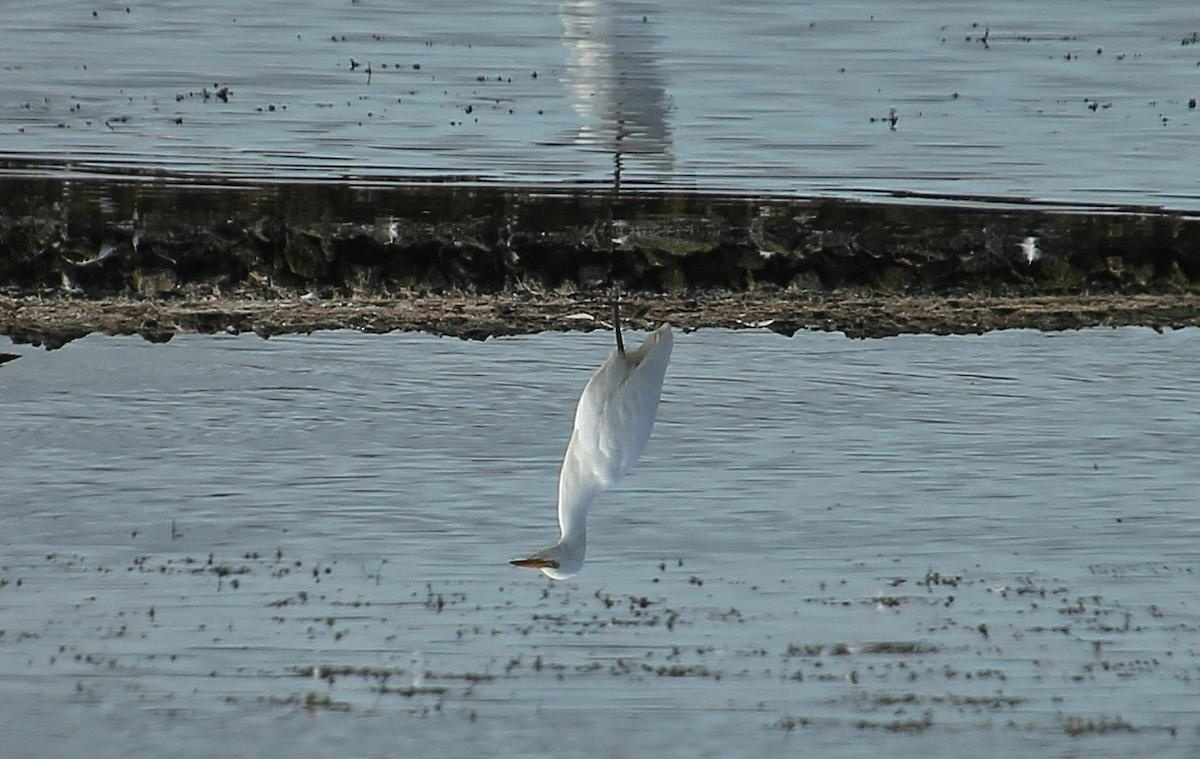egret: (514, 313, 687, 588)
